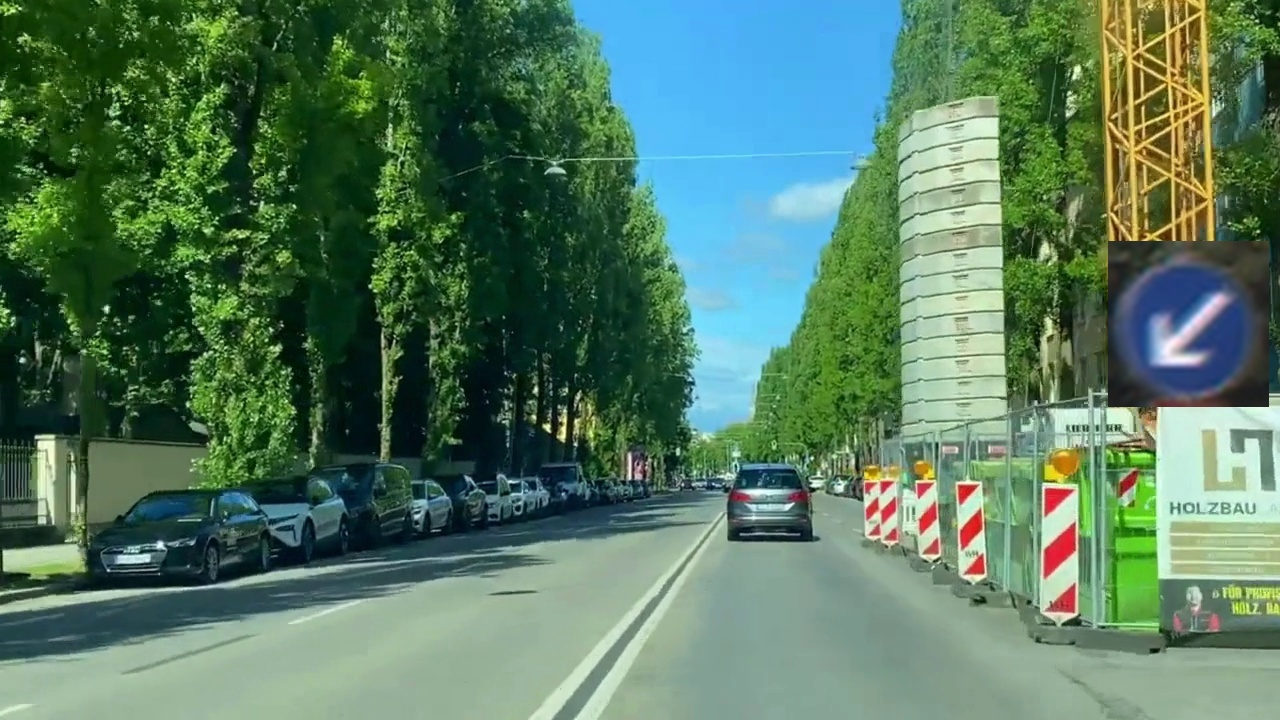Keep left: (1108, 241, 1269, 407)
